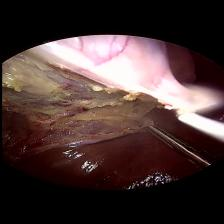Grasper: (132, 117, 211, 170)
